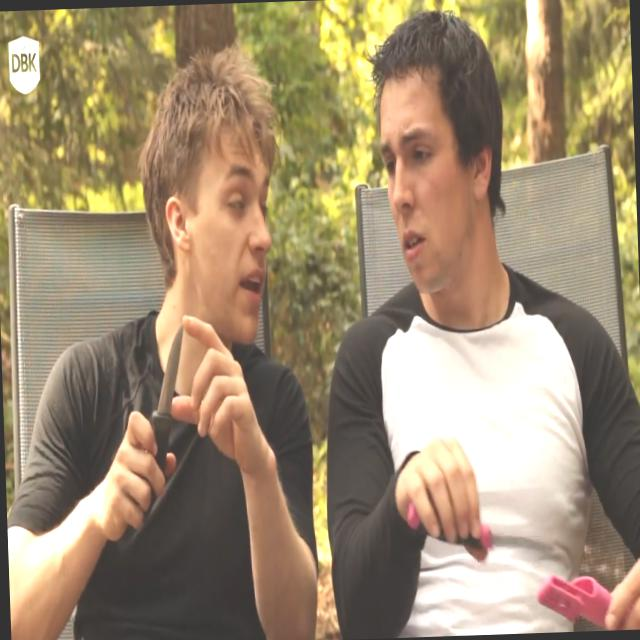knife: (128, 304, 194, 492)
